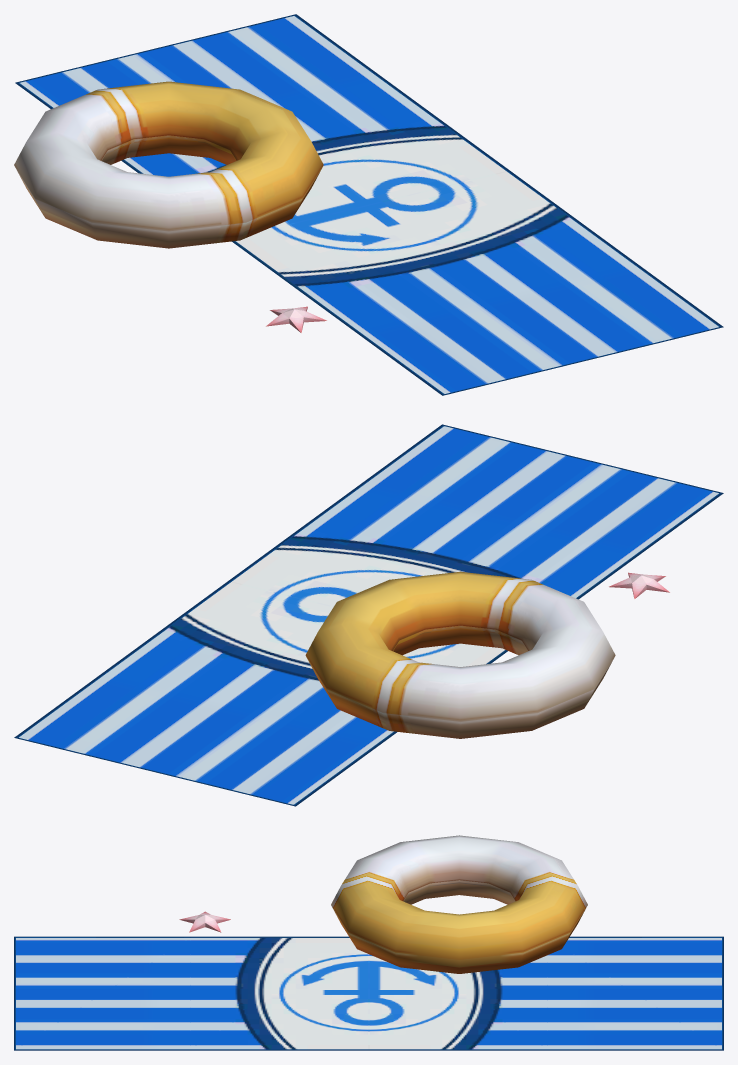
File: my_ariussummer_01_beachmat_01.glb
3 views of the same model, one above another, from view 1: azimuth 30°, elevation 25°; view 2: azimuth 150°, elevation 25°; view 3: azimuth 270°, elevation 25° (orthographic). The views are drawn at different scales.
Visible parts, largest first — view 1: my_ariussummer_01_beachmat_01; view 2: my_ariussummer_01_beachmat_01; view 3: my_ariussummer_01_beachmat_01.
Boxes of the visible parts, x1,y1,x2,y2 form: my_ariussummer_01_beachmat_01: (14, 14, 723, 395); my_ariussummer_01_beachmat_01: (14, 424, 723, 806); my_ariussummer_01_beachmat_01: (14, 835, 723, 1050).
Bounding box in the file's own units: 0.00818 × 0.00127 × 0.0144.
Materials: 1 (1 with a texture image).
